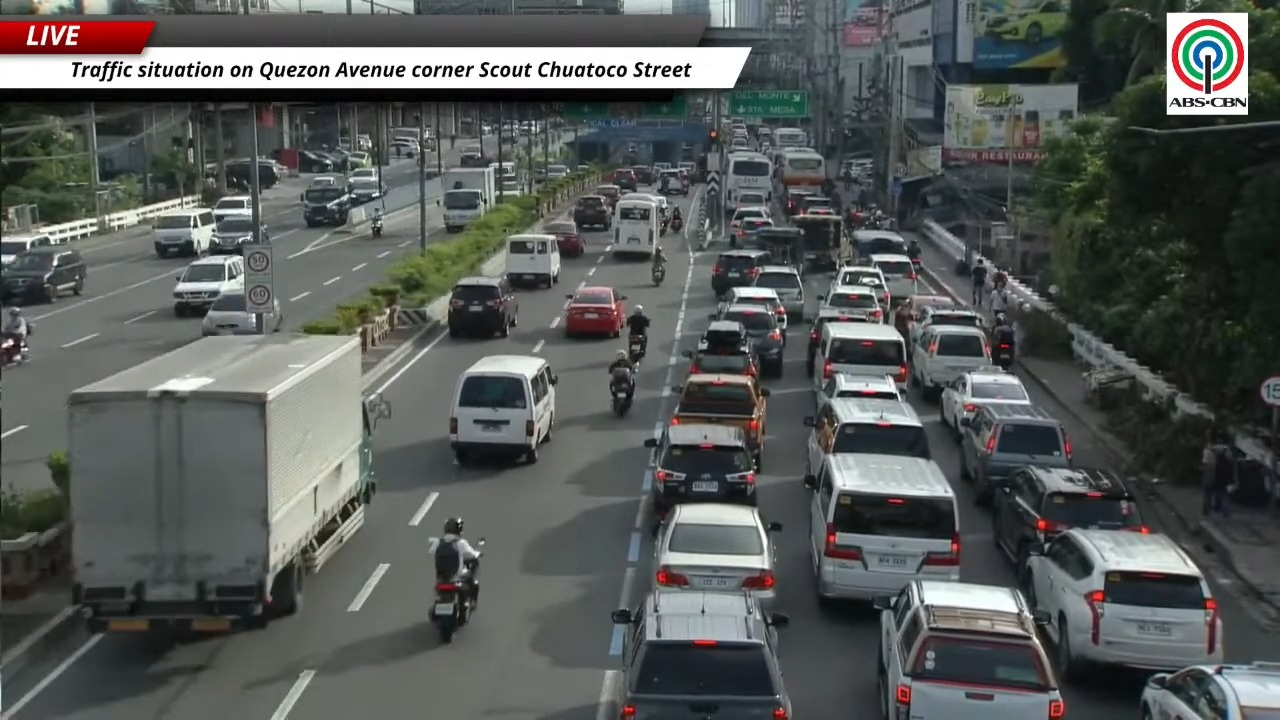car: (1020, 529, 1222, 680), (875, 580, 1066, 719), (611, 588, 791, 719), (991, 465, 1148, 569), (654, 502, 781, 608), (959, 405, 1072, 503), (645, 423, 756, 517), (804, 398, 931, 476), (1141, 661, 1279, 719), (939, 367, 1031, 433), (911, 325, 991, 399), (710, 304, 784, 377), (0, 245, 86, 303), (446, 276, 518, 337), (806, 308, 868, 376), (173, 256, 243, 316), (682, 321, 758, 375), (982, 0, 1067, 46), (721, 285, 787, 343), (201, 291, 283, 335), (815, 373, 903, 410), (564, 286, 625, 337), (754, 265, 804, 326), (900, 294, 959, 341), (910, 306, 984, 343), (711, 249, 770, 295), (831, 265, 889, 308), (869, 253, 916, 306), (684, 342, 758, 375), (818, 286, 884, 322), (0, 232, 54, 265), (209, 216, 254, 253), (698, 320, 748, 351), (543, 221, 584, 257), (854, 231, 907, 257), (904, 294, 957, 320), (572, 195, 611, 229), (734, 217, 773, 245), (212, 195, 251, 222), (729, 206, 770, 231), (349, 177, 385, 203), (784, 188, 814, 215), (656, 170, 688, 195), (298, 149, 332, 172), (594, 184, 620, 211), (610, 168, 638, 191), (734, 190, 767, 209), (389, 138, 419, 158), (802, 195, 833, 213), (308, 174, 348, 187), (630, 165, 655, 184), (499, 179, 521, 197), (348, 151, 371, 168), (348, 167, 378, 180), (546, 164, 569, 180), (804, 206, 835, 215)
motorcycle: (432, 576, 475, 643), (610, 369, 632, 416), (0, 336, 29, 366), (992, 342, 1014, 371), (628, 335, 646, 365), (651, 263, 665, 285), (371, 218, 383, 238), (659, 218, 670, 237), (910, 257, 921, 276), (670, 217, 682, 232)
truck: (68, 334, 390, 633), (439, 167, 496, 232), (300, 178, 352, 227)
